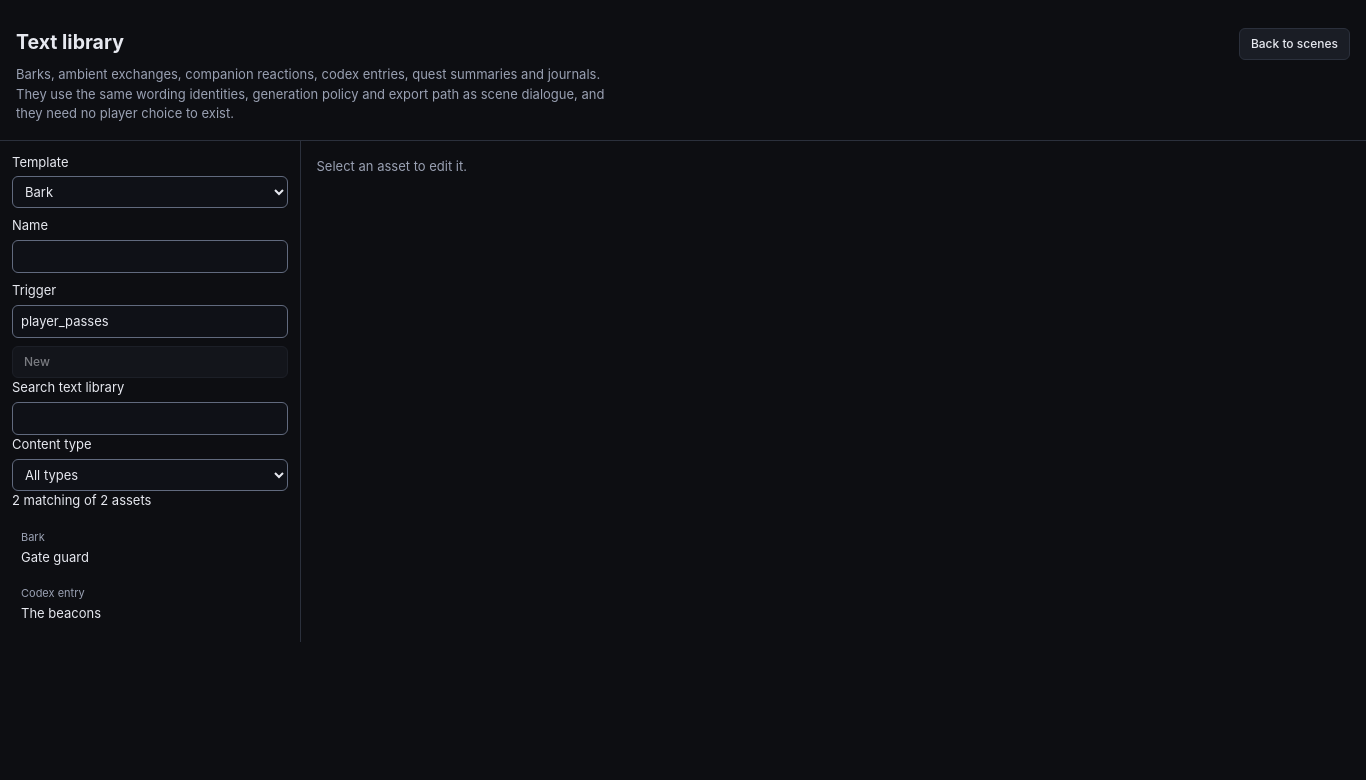
Test: the Text library › does not offer Save until something has actually changed
The width and height of the screenshot is (1366, 780).
Click the button "Bark Gate guard" at (55, 557), box [12,522,288,574]
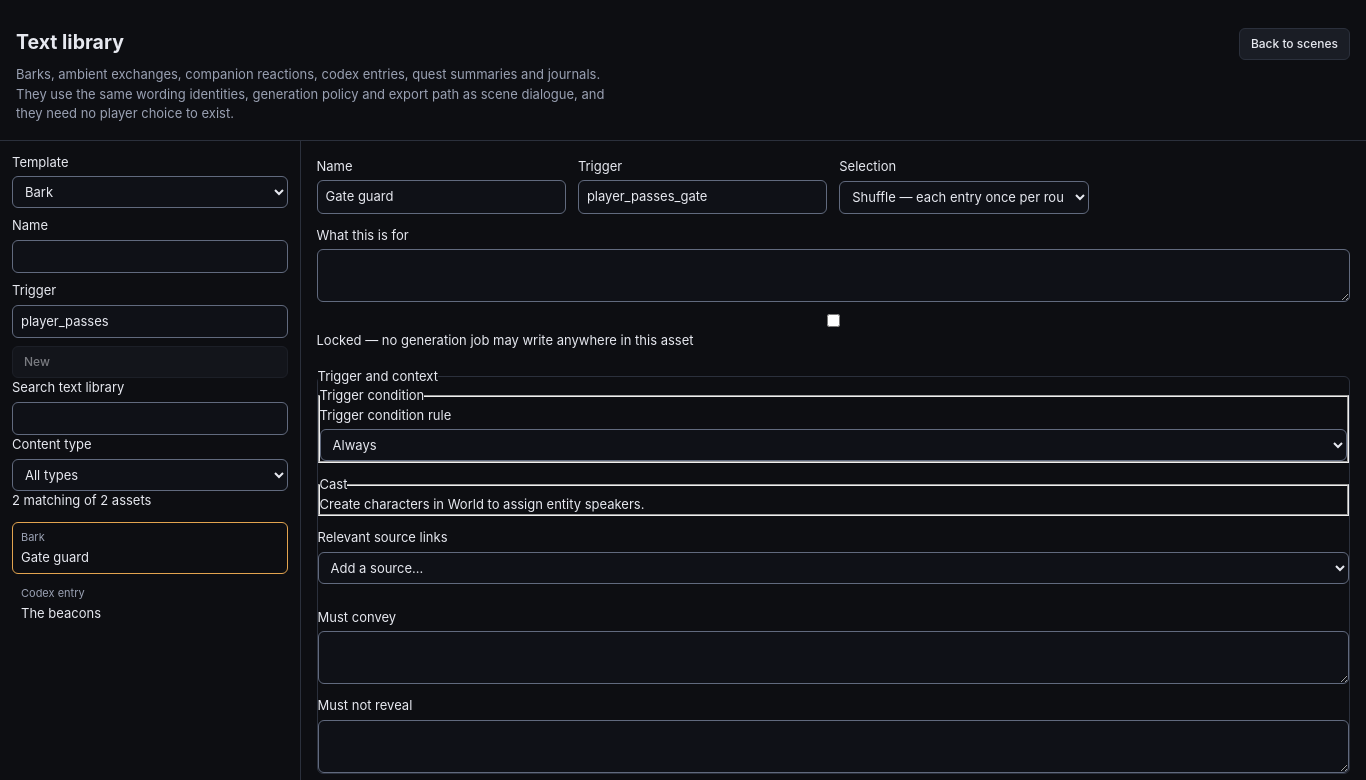
expect the 1st field labelled "Name" is shown: met
Replace the text in the 1st field labelled "Name" with "Seawall keeper" at (441, 197), box [316,180,566,214]
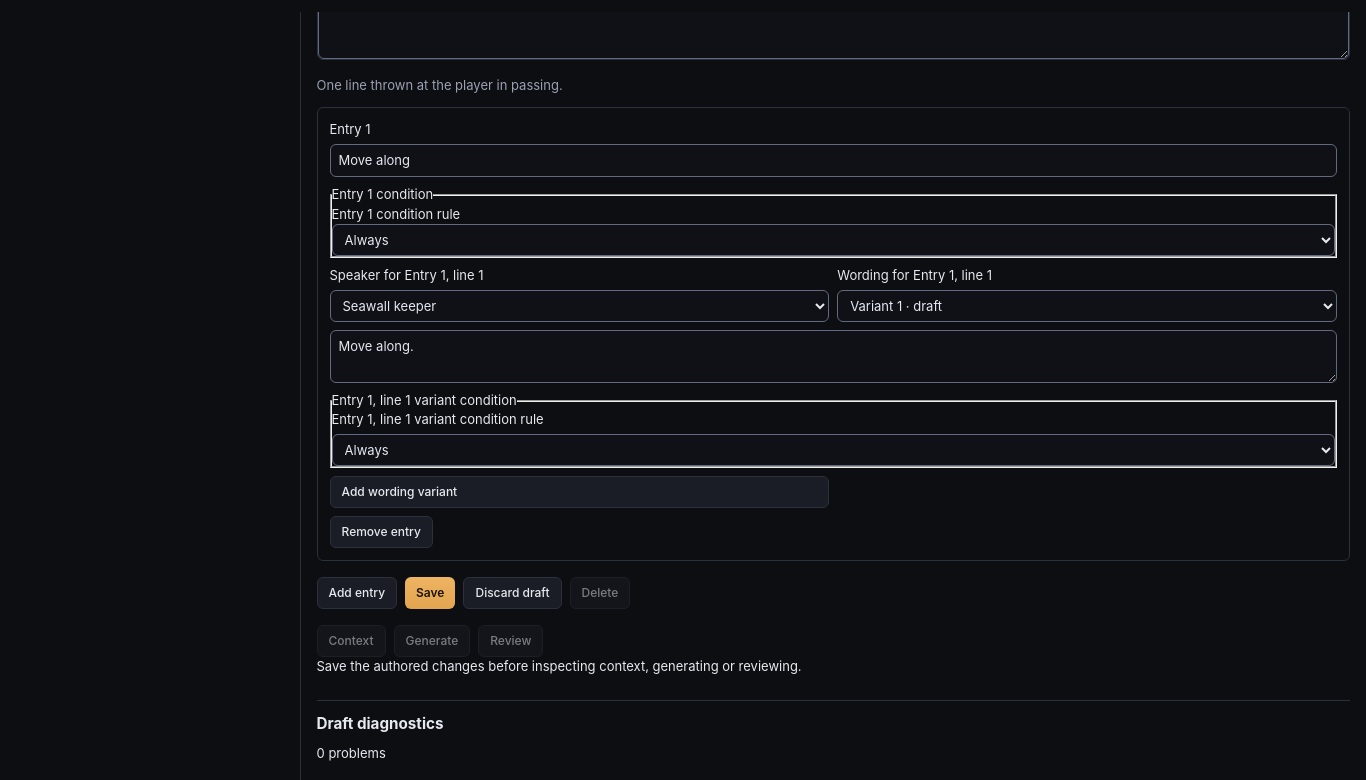
expect the button "Save" is enabled: met, box [405,577,455,609]
